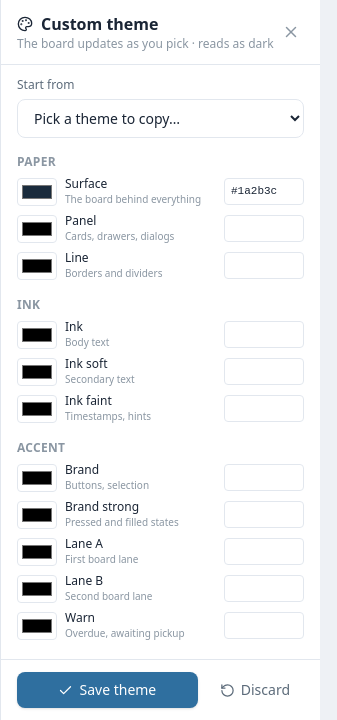
it: #141: backspacing and retyping a hex digit edits the field and then the palette
The image size is (337, 720).
Click the field named "Surface hex". click: (264, 192)
box: [224, 178, 304, 205]
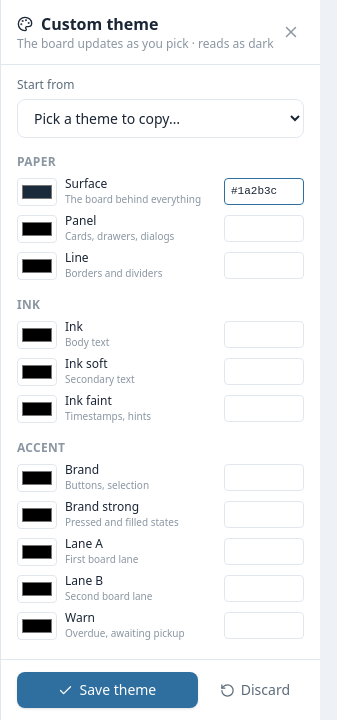
Press End Backspace
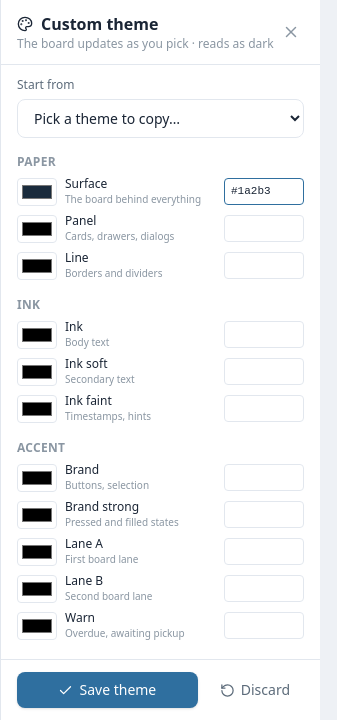
Expected: the field named "Surface hex" holds "#1a2b3", [224, 178, 304, 205]
Type keys "d"
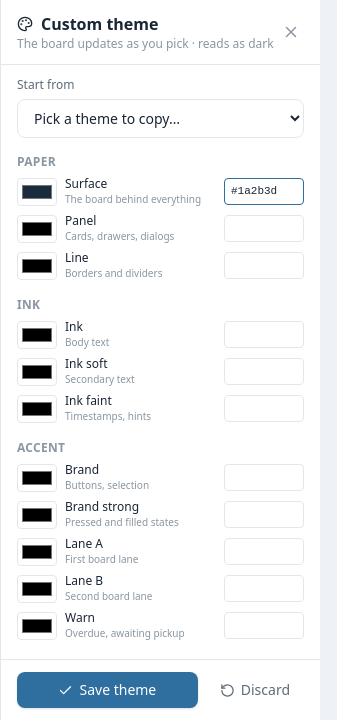
Result: the field named "Surface hex" holds "#1a2b3d" at [224, 178, 304, 205]
